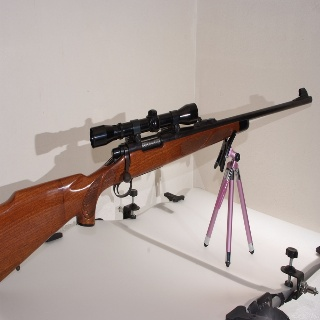rifle: (1, 88, 314, 282)
